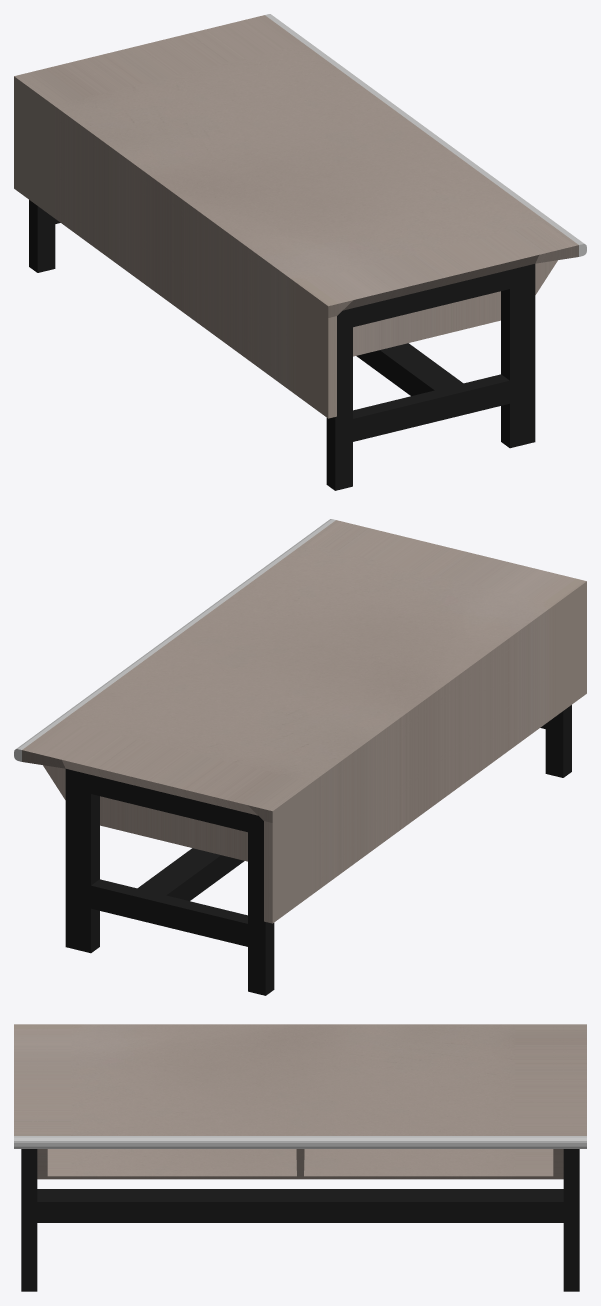
File: Mesa.fbx
3 renders of one model, top to bottom at view 1: azimuth 30°, elevation 25°; view 2: azimuth 150°, elevation 25°; view 3: azimuth 270°, elevation 25°, orthographic. The views are drawn at different scales.
Visible parts, largest first — view 1: Mesa; view 2: Mesa; view 3: Mesa.
Boxes of the visible parts, x1,y1,x2,y2 form: Mesa: (14,14,586,490); Mesa: (14,519,586,995); Mesa: (14,1024,586,1291).
Size of the model in its own units: 180 by 127 by 379.
